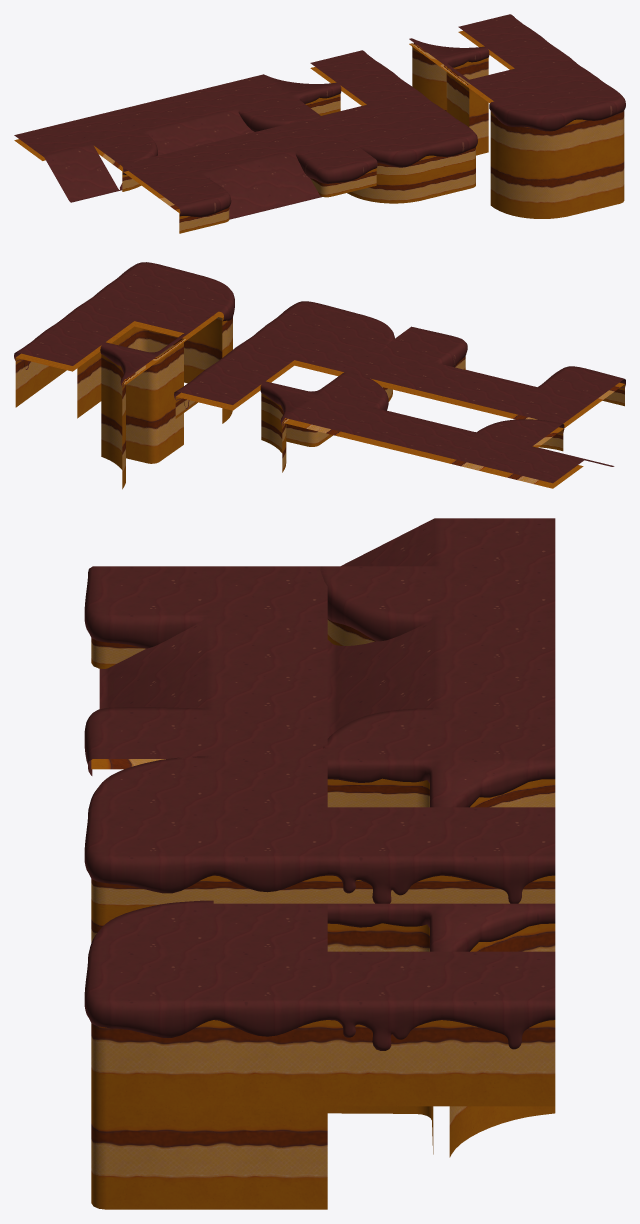
File: terrain_kit.glb
The picture shows the model from 3 angles, top to bottom: view 1: azimuth 30°, elevation 25°; view 2: azimuth 150°, elevation 25°; view 3: azimuth 270°, elevation 25°; orthographic projection. The views are drawn at different scales.
Parts seen in each view (by area): view 1: slopeAright_terrain, slopeAleft_terrain, slopeBleft_terrain, slopeBright_terrain, cornerB_platformer, cornerB_sup_platformer, cornerA_platformer, slopemiddle_terrain, cornerA_terrain, cornerB_terrain, cornerA_sup_platformer, innercornerB_platformer (+14 smaller); view 2: slopeAleft_terrain, slopeAright_terrain, slopeBleft_terrain, slopeBright_terrain, middleC_platformer, innercornerB_sup_platformer, innercornerB_platformer, middleC_terrain, cornerB_platformer, innercornerA_platformer, slopemiddle_terrain, middleB_platformer (+15 smaller); view 3: slopeAleft_terrain, slopeBleft_terrain, slopeAright_terrain, cornerA_platformer, slopeBright_terrain, middleC_platformer, middleA_platformer, middleB_platformer, cornerA_sup_platformer, cornerA_terrain, middle_sup_platformer, middleC_terrain (+13 smaller).
Part boxes in pixels (x1,y1,x2,y2): slopeAright_terrain: (219, 118, 377, 208); slopeAleft_terrain: (121, 141, 275, 233); slopeBleft_terrain: (63, 99, 204, 191); slopeBright_terrain: (162, 75, 318, 143); cornerB_platformer: (489, 89, 574, 167); cornerB_sup_platformer: (490, 154, 573, 218); cornerA_platformer: (544, 76, 625, 163); slopemiddle_terrain: (14, 123, 119, 202); cornerA_terrain: (396, 113, 477, 173); cornerB_terrain: (343, 125, 426, 177); cornerA_sup_platformer: (574, 149, 624, 214); innercornerB_platformer: (437, 48, 489, 126); slopeAleft_terrain: (455, 366, 625, 428); slopeAright_terrain: (348, 326, 515, 404); slopeBleft_terrain: (393, 419, 564, 475); slopeBright_terrain: (286, 373, 453, 449); middleC_platformer: (14, 330, 102, 407); innercornerB_sup_platformer: (126, 396, 183, 463); innercornerB_platformer: (104, 333, 187, 407); middleC_terrain: (174, 369, 262, 418); cornerB_platformer: (165, 274, 234, 357); innercornerA_platformer: (100, 343, 156, 433); slopemiddle_terrain: (500, 446, 614, 488); middleB_platformer: (46, 307, 133, 384); slopeAleft_terrain: (84, 566, 327, 709); slopeBleft_terrain: (320, 566, 555, 714); slopeAright_terrain: (84, 662, 327, 775); cornerA_platformer: (84, 951, 213, 1106); slopeBright_terrain: (321, 662, 555, 758); middleC_platformer: (441, 951, 555, 1106); middleA_platformer: (213, 951, 327, 1106); middleB_platformer: (327, 951, 441, 1106); cornerA_sup_platformer: (91, 1100, 213, 1209); cornerA_terrain: (84, 807, 213, 910); middle_sup_platformer: (213, 1106, 327, 1209); middleC_terrain: (441, 807, 555, 903).
Size of the model in its own units: 20.26 by 4 by 8.26.
Materials: 2 (2 with a texture image).
